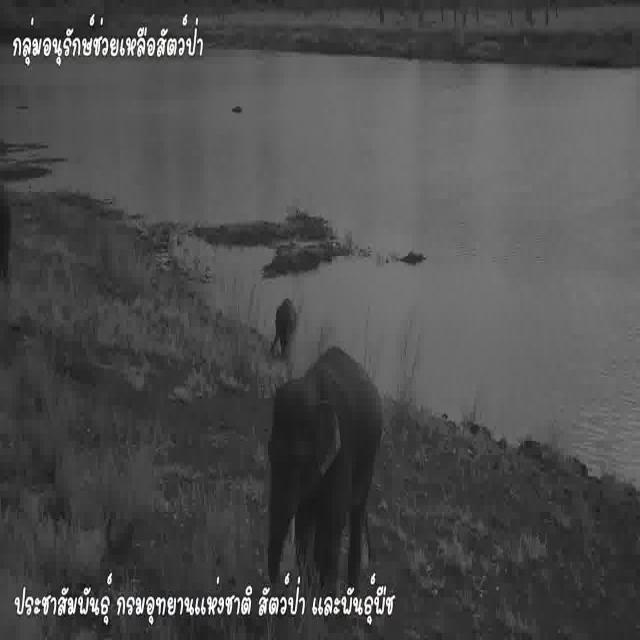Elephant: (267, 346, 375, 565), (272, 295, 296, 348)
